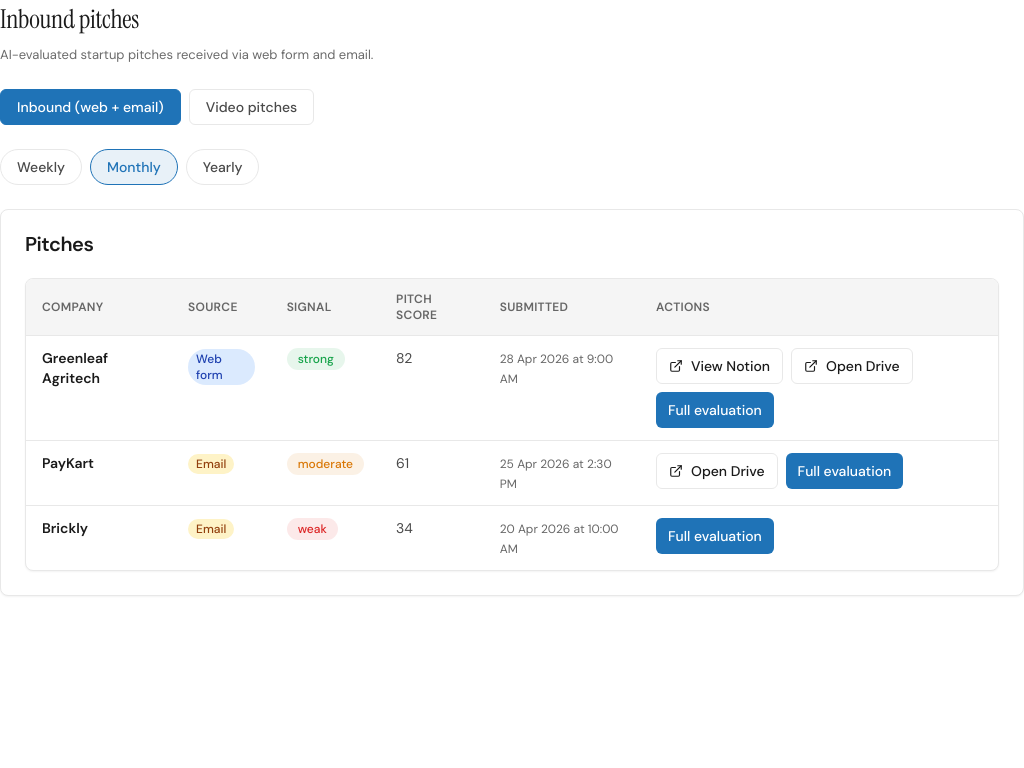
Test: AdminInboundPitchesPage — drawer › renders empty-evaluation state gracefully when evaluation is null
What coordinates should you click on to do the following:
click the button with test id "eval-00000000-0000-4000-8000-000000000aa2"
I would click on:
 (844, 470)
Its box is [786,452,903,488].
(page scrolled)
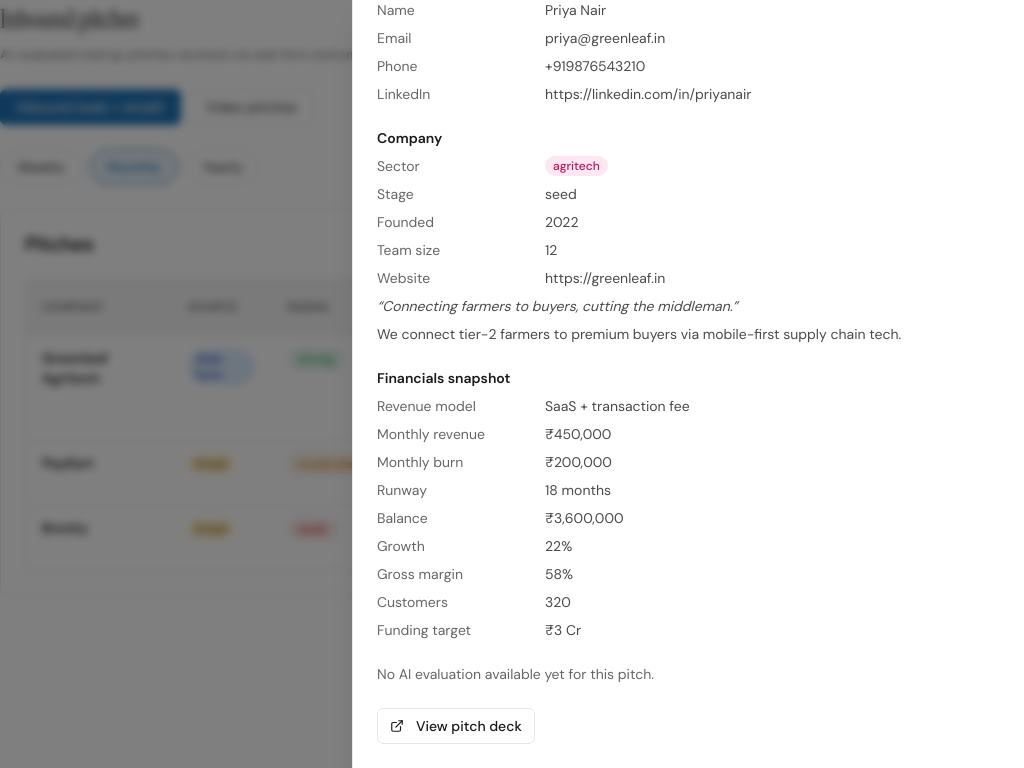
Check: the dialog with test id "pitch-detail-drawer" is shown
Check: the text "No AI evaluation available yet for this pitch." is shown, box [377,665,654,683]
